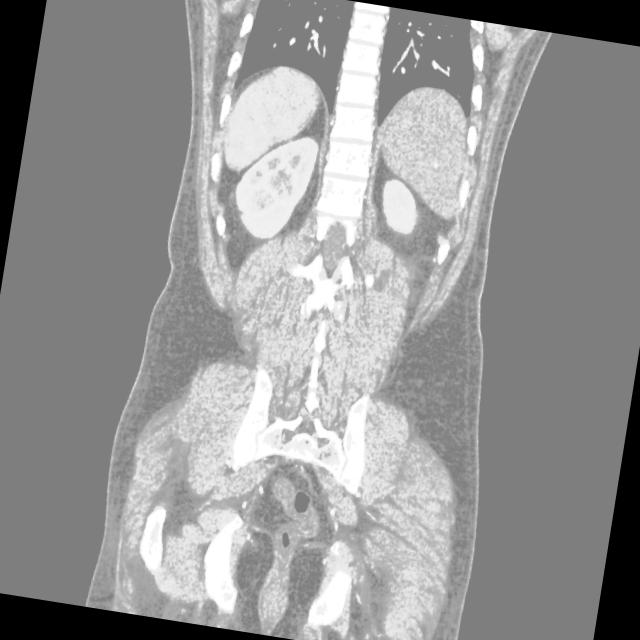NORMAL: (90, 16, 548, 450)
